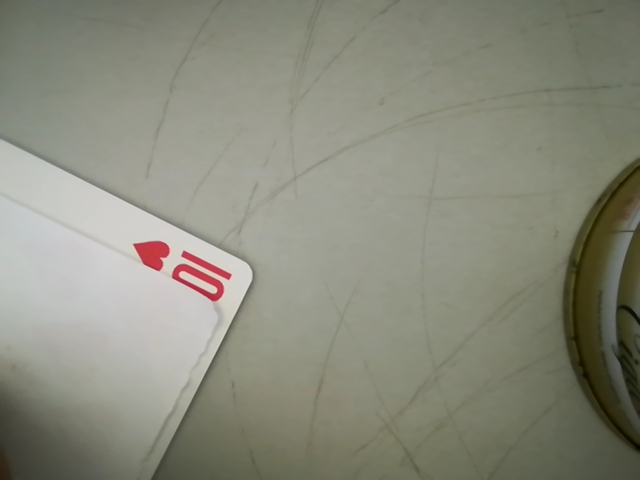hx 10: (125, 232, 248, 310)
